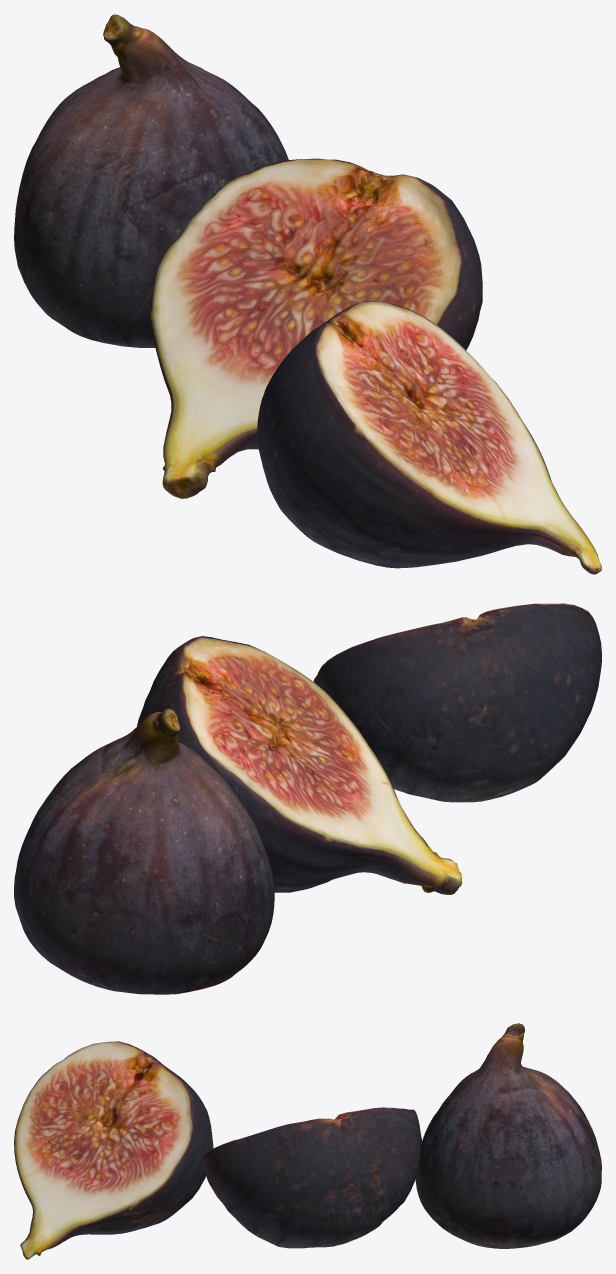
File: Figs.glb
3 views of the same model, one above another, from view 1: azimuth 30°, elevation 25°; view 2: azimuth 150°, elevation 25°; view 3: azimuth 270°, elevation 25° (orthographic). The views are drawn at different scales.
Visible parts, largest first — view 1: FoodPlatter006_FruitFigHalves002, FoodPlatter006_FruitFigHalves001, FoodPlatter006_FruitFig001; view 2: FoodPlatter006_FruitFig001, FoodPlatter006_FruitFigHalves001, FoodPlatter006_FruitFigHalves002; view 3: FoodPlatter006_FruitFigHalves001, FoodPlatter006_FruitFig001, FoodPlatter006_FruitFigHalves002.
Boxes of the visible parts, x1=… form: FoodPlatter006_FruitFigHalves002: x1=150, y1=158, x2=482, y2=498; FoodPlatter006_FruitFigHalves001: x1=257, y1=300, x2=601, y2=574; FoodPlatter006_FruitFig001: x1=14, y1=14, x2=288, y2=347; FoodPlatter006_FruitFig001: x1=14, y1=708, x2=274, y2=994; FoodPlatter006_FruitFigHalves001: x1=313, y1=603, x2=601, y2=802; FoodPlatter006_FruitFigHalves002: x1=137, y1=636, x2=462, y2=894; FoodPlatter006_FruitFigHalves001: x1=14, y1=1041, x2=213, y2=1259; FoodPlatter006_FruitFig001: x1=415, y1=1023, x2=601, y2=1248; FoodPlatter006_FruitFigHalves002: x1=202, y1=1107, x2=421, y2=1248.
Bounding box in the file's own units: 0.1389 × 0.1268 × 0.3271.
2 materials, 2 textured.
